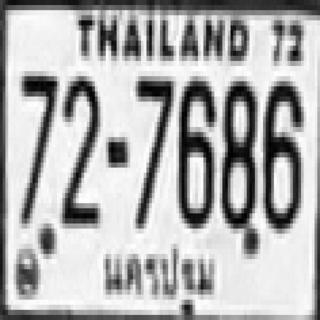N02: (60, 71, 98, 224)
N06: (260, 76, 301, 229), (176, 76, 214, 223)
N07: (19, 71, 57, 224), (133, 74, 171, 226)
N08: (220, 76, 255, 229)
P28: (102, 242, 218, 318)
